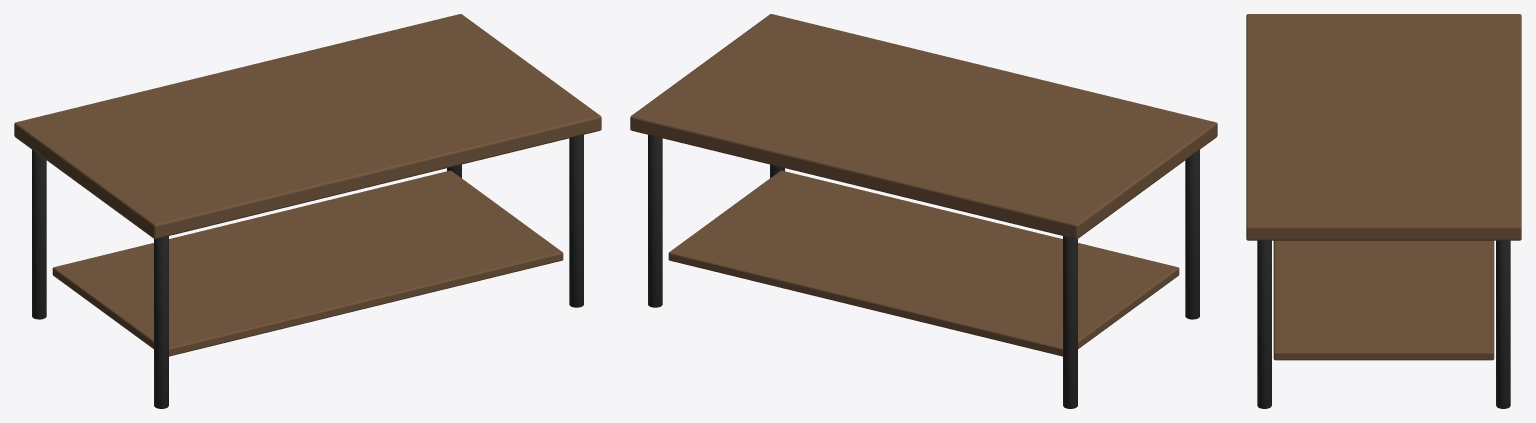
Rendered from couchtisch.glb.
The picture shows the model from 3 angles, left to right: view 1: azimuth 30°, elevation 25°; view 2: azimuth 150°, elevation 25°; view 3: azimuth 270°, elevation 25°; orthographic projection. The views are drawn at different scales.
Visible parts, largest first — view 1: Platte, Ablage, Bein1, Bein0, Bein2; view 2: Platte, Ablage, Bein3, Bein2, Bein0; view 3: Platte, Ablage, Bein1, Bein3.
Part boxes in pixels (x1=…): Platte: x1=14, y1=14, x2=601, y2=239; Ablage: x1=52, y1=170, x2=563, y2=356; Bein1: x1=569, y1=135, x2=583, y2=307; Bein0: x1=154, y1=236, x2=168, y2=408; Bein2: x1=32, y1=150, x2=46, y2=319; Platte: x1=630, y1=14, x2=1217, y2=239; Ablage: x1=668, y1=170, x2=1179, y2=356; Bein3: x1=648, y1=135, x2=662, y2=307; Bein2: x1=1063, y1=236, x2=1077, y2=408; Bein0: x1=1185, y1=150, x2=1199, y2=319; Platte: x1=1246, y1=14, x2=1521, y2=240; Ablage: x1=1273, y1=240, x2=1494, y2=360; Bein1: x1=1257, y1=240, x2=1271, y2=408; Bein3: x1=1496, y1=240, x2=1510, y2=408.
Bounding box in the file's own units: 1.1 × 0.45 × 0.6.
